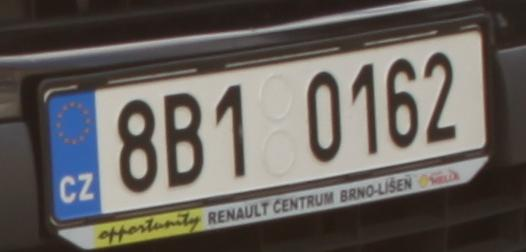0: (308, 72, 340, 161)
1: (217, 87, 246, 177), (352, 65, 378, 153)
2: (426, 54, 455, 141)
6: (386, 59, 417, 147)
8: (118, 100, 157, 190)
B: (165, 95, 203, 185)
